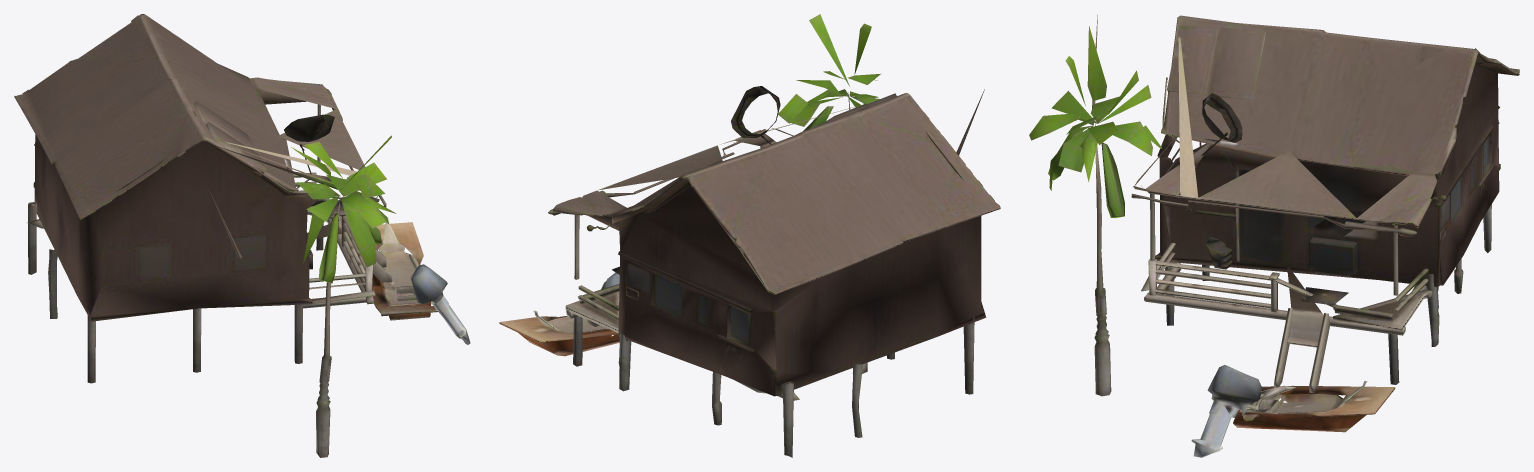
File: mekong_stilt_house.glb
3 views of the same model, side by side, from view 1: azimuth 30°, elevation 25°; view 2: azimuth 150°, elevation 25°; view 3: azimuth 270°, elevation 25° (orthographic). The views are drawn at different scales.
Parts seen in each view (by area): view 1: Body; view 2: Body; view 3: Body.
Part boxes in pixels (x1,y1,x2,y2): Body: (14, 14, 470, 457); Body: (499, 14, 1000, 457); Body: (1029, 15, 1519, 457).
Size of the model in its own units: 10.77 by 8.23 by 10.52.
Materials: 1 (1 with a texture image).
